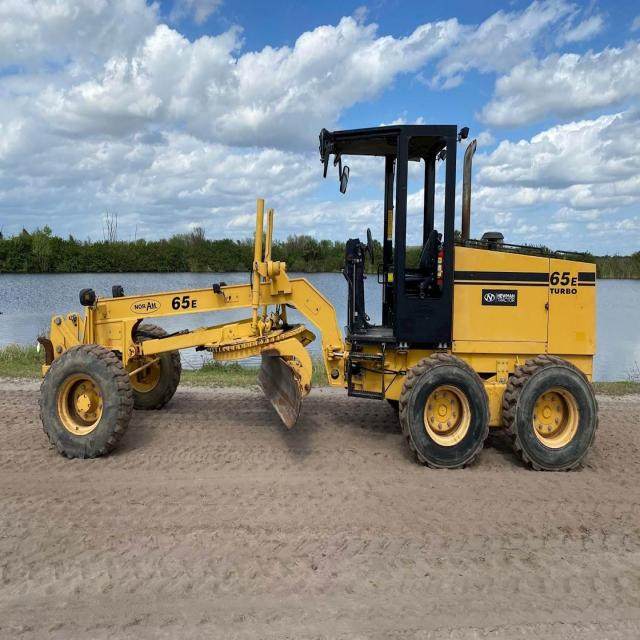Grader: (26, 101, 608, 487)
